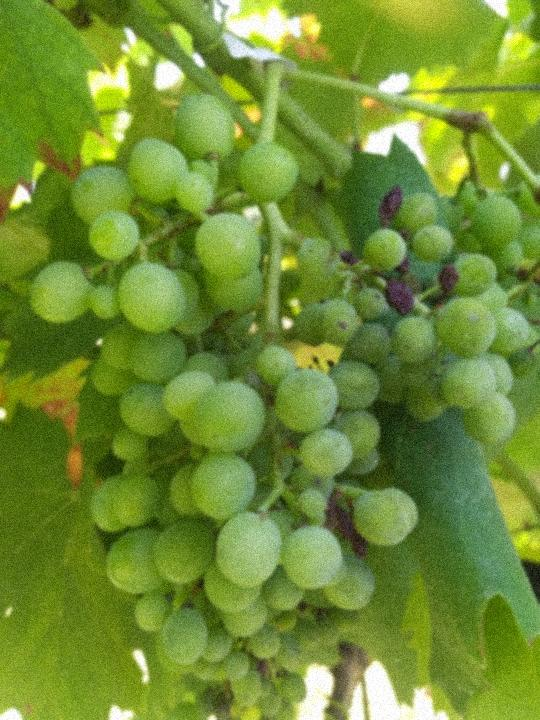grape: (26, 83, 540, 720)
